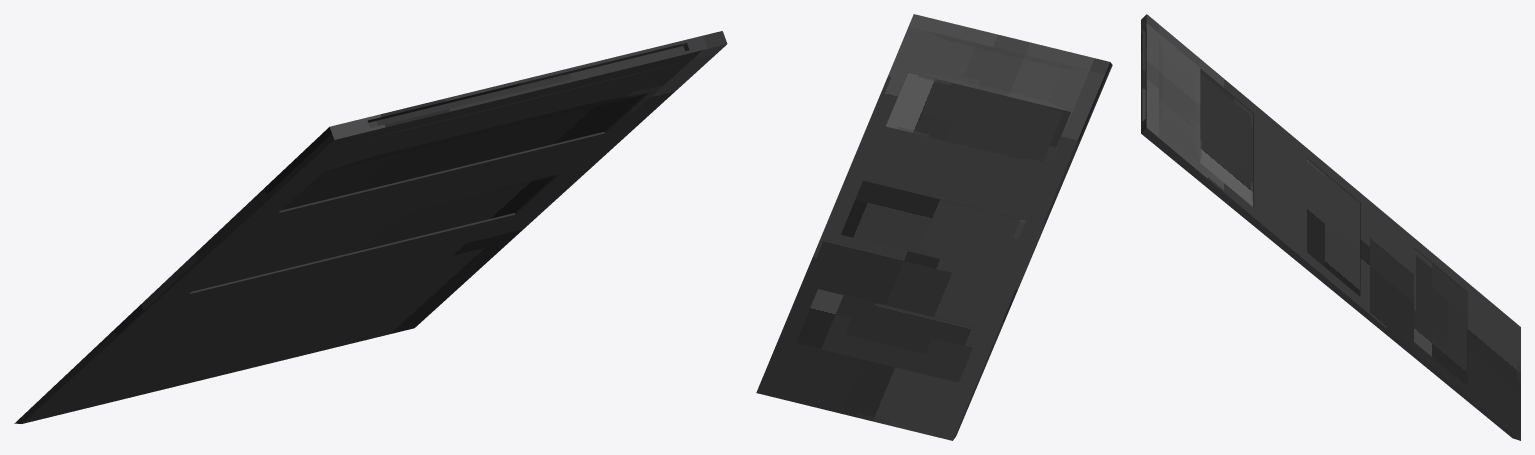
The model's file is F7CargoRampInner.glb.
The picture shows the model from 3 angles, left to right: view 1: azimuth 30°, elevation 25°; view 2: azimuth 150°, elevation 25°; view 3: azimuth 270°, elevation 25°; orthographic projection. The views are drawn at different scales.
Parts seen in each view (by area): view 1: RearRamp.003; view 2: RearRamp.003; view 3: RearRamp.003.
Part boxes in pixels (box(x1,y1,x2,y2)): RearRamp.003: box(14, 31, 727, 423); RearRamp.003: box(756, 14, 1112, 440); RearRamp.003: box(1141, 14, 1520, 440).
Size of the model in its own units: 1.97 by 2.52 by 2.77.
1 material, 1 textured.
